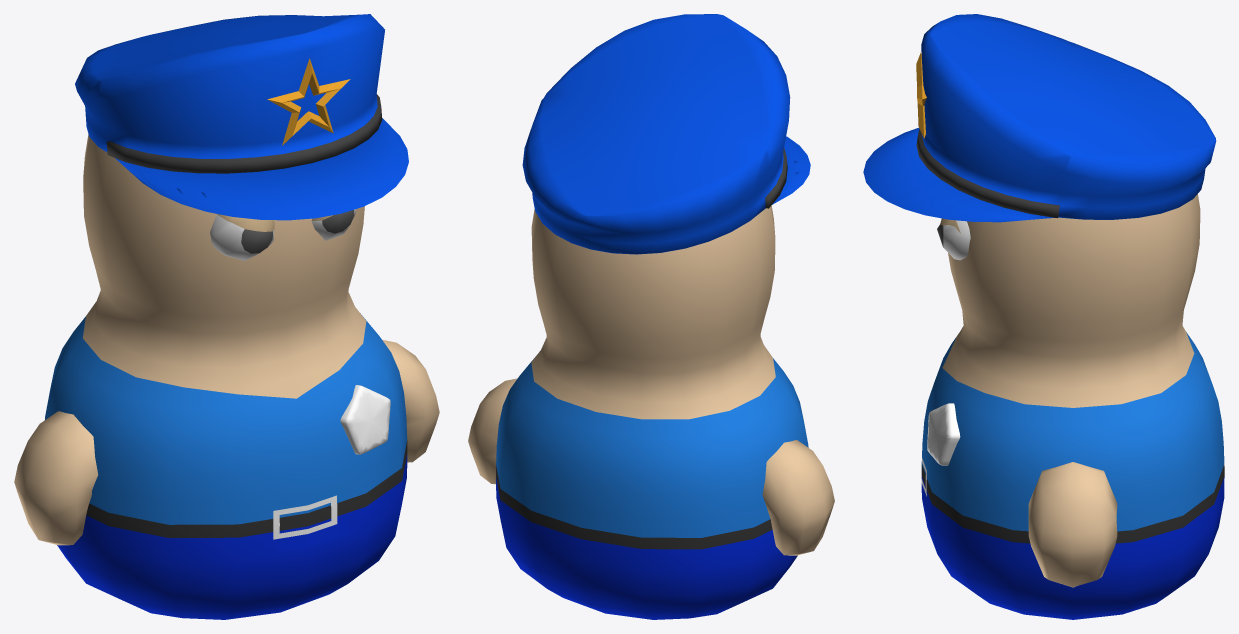
Rendered from Police.fbx.
3 views of the same model, side by side, from view 1: azimuth 30°, elevation 25°; view 2: azimuth 150°, elevation 25°; view 3: azimuth 270°, elevation 25° (orthographic). The views are drawn at different scales.
Visible parts, largest first — view 1: Cube.002; view 2: Cube.002; view 3: Cube.002.
Part boxes in pixels (x1=…): Cube.002: x1=14, y1=14, x2=439, y2=619; Cube.002: x1=468, y1=14, x2=834, y2=619; Cube.002: x1=863, y1=14, x2=1224, y2=619.
Bounding box in the file's own units: 0.6888 × 0.9956 × 0.5864.
